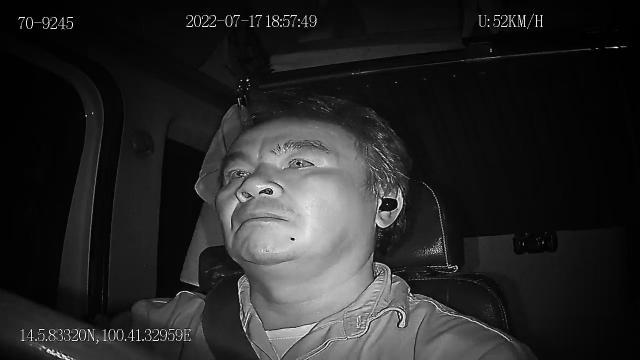SafeDriving: (280, 146, 322, 176), (218, 156, 255, 185)
Seatbelt: (198, 270, 262, 360)
